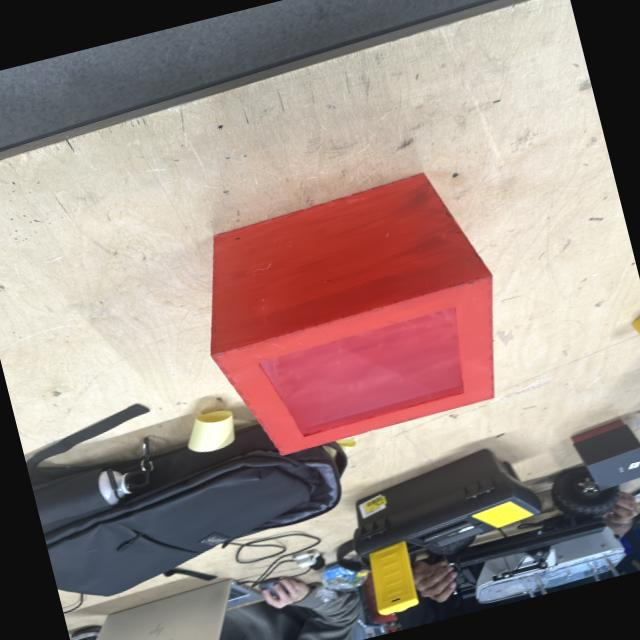red_bin: (179, 160, 524, 467)
